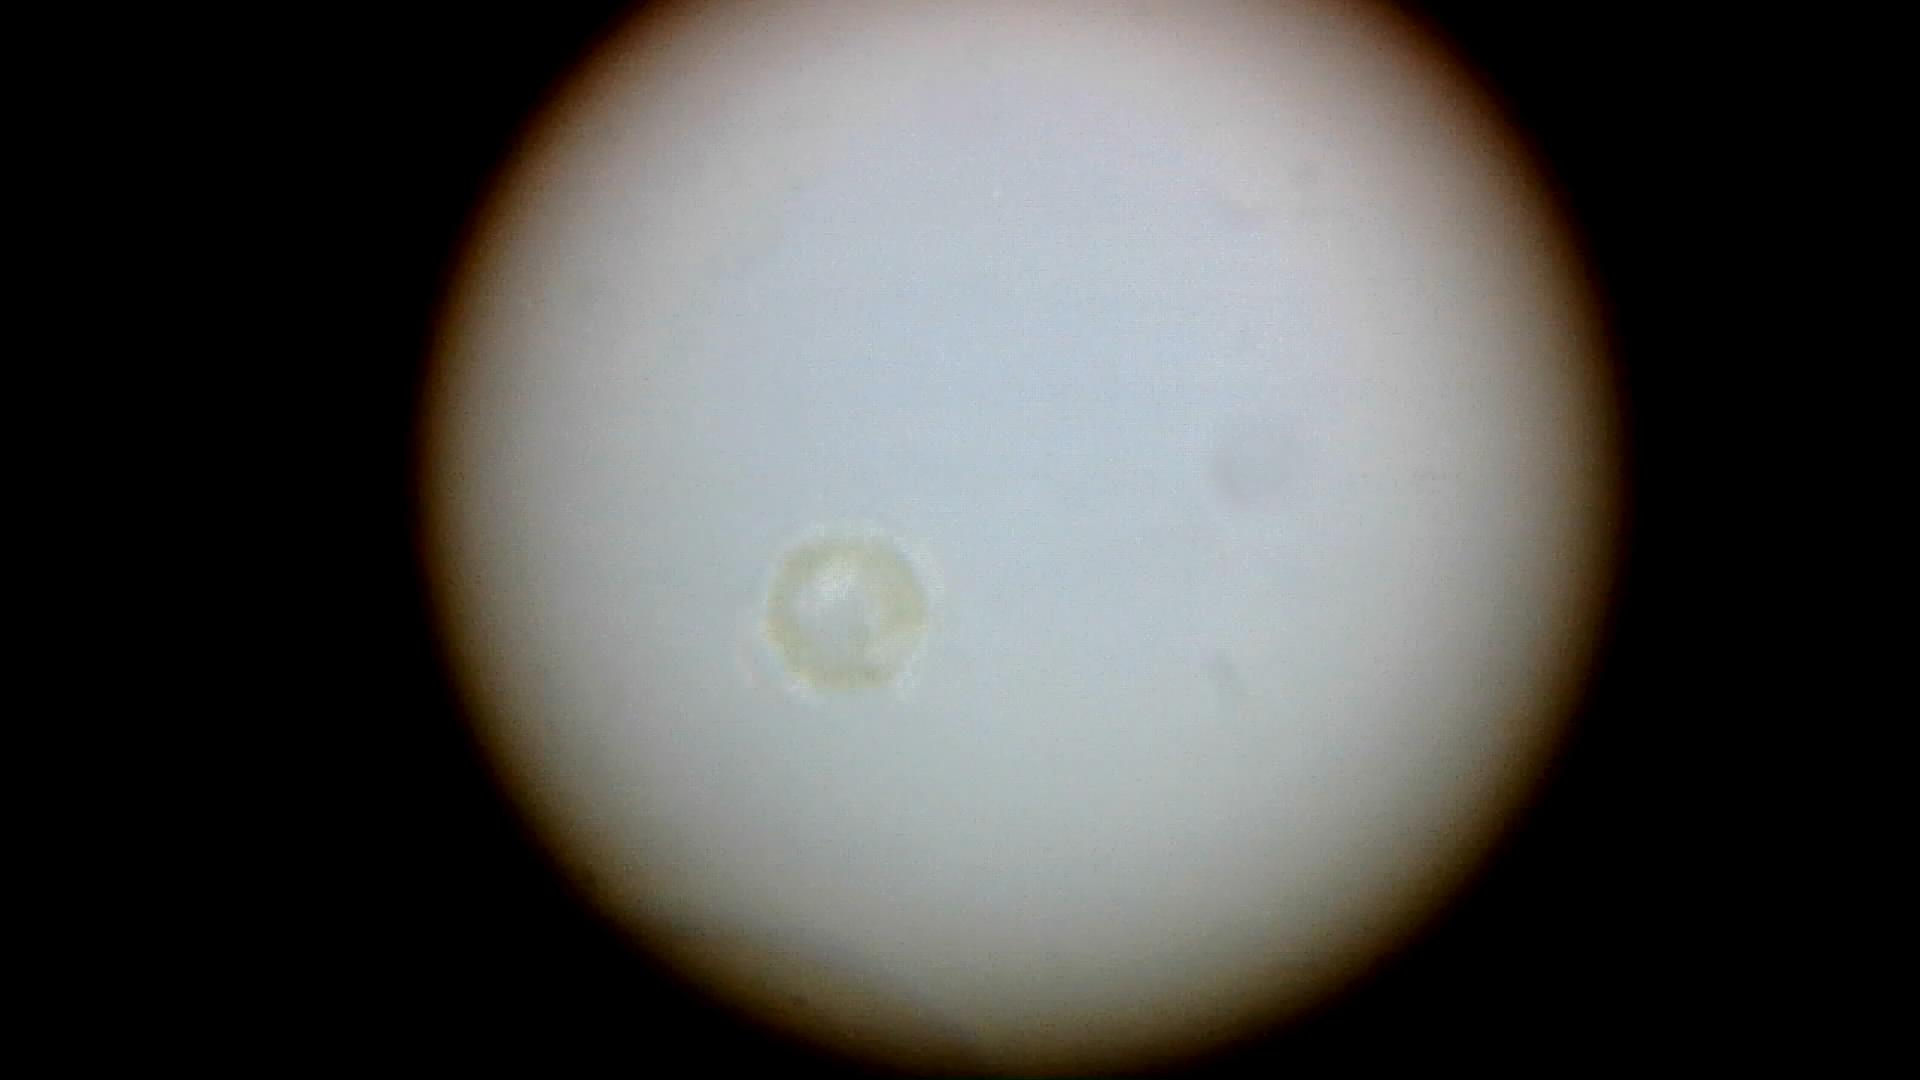alexandrium minutum: (764, 505, 935, 708)
